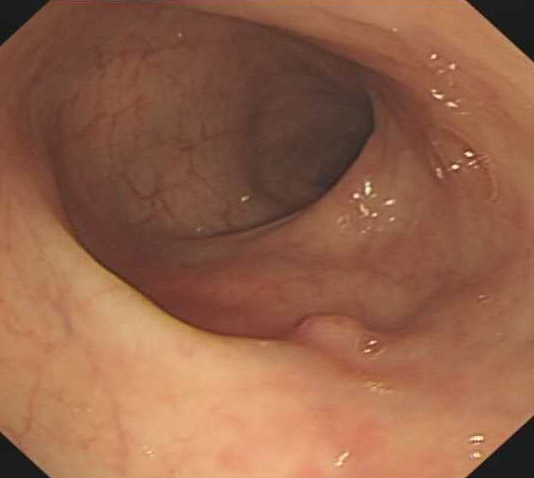adenoma: (289, 310, 370, 347)
